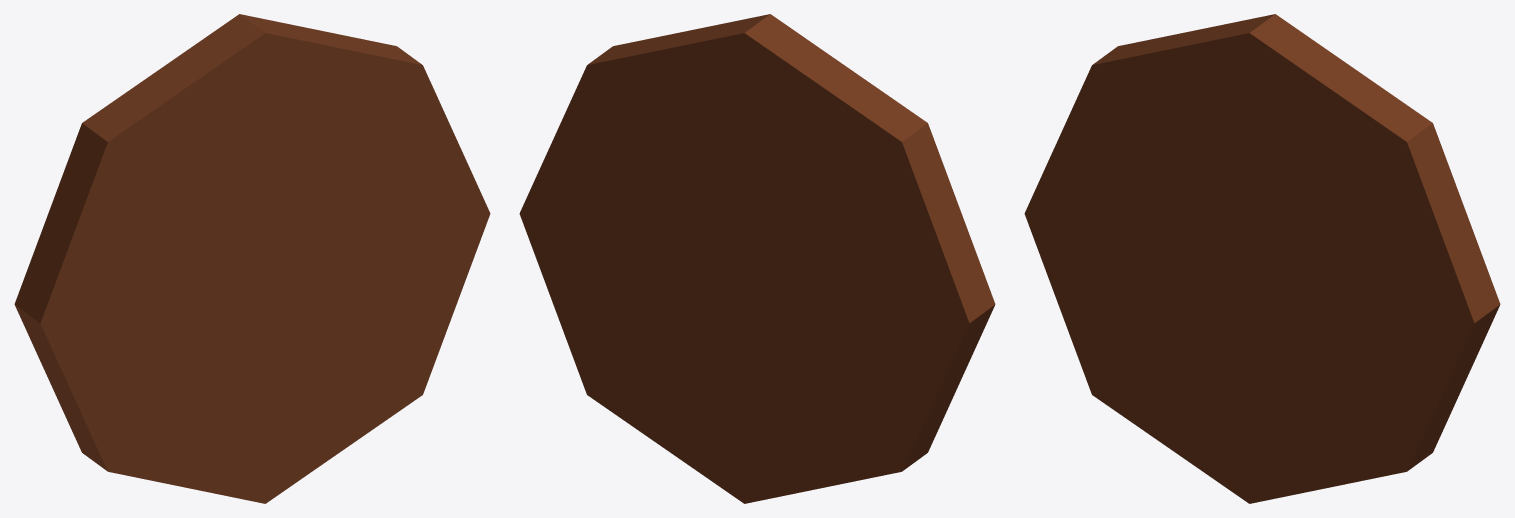
File: pipe_valve.obj
3 renders of one model, left to right at view 1: azimuth 30°, elevation 25°; view 2: azimuth 150°, elevation 25°; view 3: azimuth 330°, elevation 25°, orthographic.
Parts seen in each view (by area): view 1: pipe_valve; view 2: pipe_valve; view 3: pipe_valve.
Part boxes in pixels (x1,y1,x2,y2): pipe_valve: [14, 14, 490, 503]; pipe_valve: [519, 14, 995, 503]; pipe_valve: [1024, 14, 1500, 503].
Size of the model in its own units: 0.8 by 0.8 by 0.08.
